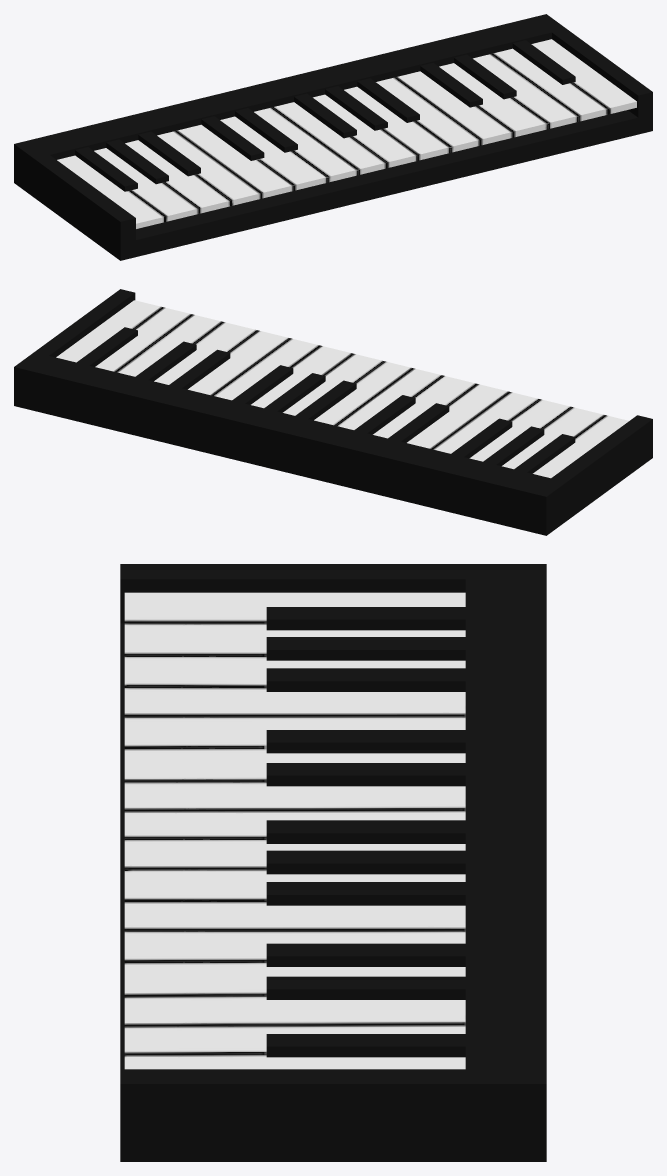
The model's file is Low_Poly_Digital_Piano.glb.
The picture shows the model from 3 angles, top to bottom: view 1: azimuth 30°, elevation 25°; view 2: azimuth 150°, elevation 25°; view 3: azimuth 270°, elevation 25°; orthographic projection. The views are drawn at different scales.
Visible parts, largest first — view 1: Plane_Mat.1_0, Plane_Mat_0, Cube_10_Mat.1_0, Cube_3_Mat.1_0, Cube_1_Mat.1_0, Cube_7_Mat.1_0, Cube_2_Mat.1_0, Cube_5_Mat.1_0, Cube_4_Mat.1_0, Cube_9_Mat.1_0, Cube_6_Mat.1_0, Cube_Mat.1_0 (+1 smaller); view 2: Plane_Mat.1_0, Plane_Mat_0, Cube_2_Mat.1_0, Cube_8_Mat.1_0, Cube_5_Mat.1_0, Cube_3_Mat.1_0, Cube_1_Mat.1_0, Cube_9_Mat.1_0, Cube_7_Mat.1_0, Cube_6_Mat.1_0, Cube_4_Mat.1_0, Cube_Mat.1_0 (+1 smaller); view 3: Plane_Mat_0, Plane_Mat.1_0, Cube_6_Mat.1_0, Cube_7_Mat.1_0, Cube_5_Mat.1_0, Cube_2_Mat.1_0, Cube_1_Mat.1_0, Cube_10_Mat.1_0, Cube_9_Mat.1_0, Cube_8_Mat.1_0, Cube_4_Mat.1_0, Cube_3_Mat.1_0 (+1 smaller).
Part boxes in pixels (x1=…): Plane_Mat.1_0: x1=14, y1=14, x2=652, y2=260; Plane_Mat_0: x1=57, y1=39, x2=636, y2=228; Cube_10_Mat.1_0: x1=512, y1=40, x2=575, y2=84; Cube_3_Mat.1_0: x1=201, y1=116, x2=264, y2=160; Cube_1_Mat.1_0: x1=106, y1=139, x2=168, y2=184; Cube_7_Mat.1_0: x1=357, y1=78, x2=419, y2=122; Cube_2_Mat.1_0: x1=138, y1=131, x2=200, y2=176; Cube_5_Mat.1_0: x1=294, y1=93, x2=356, y2=138; Cube_4_Mat.1_0: x1=235, y1=108, x2=297, y2=152; Cube_9_Mat.1_0: x1=454, y1=54, x2=516, y2=99; Cube_6_Mat.1_0: x1=325, y1=86, x2=387, y2=130; Cube_Mat.1_0: x1=75, y1=147, x2=137, y2=191; Plane_Mat.1_0: x1=14, y1=289, x2=652, y2=535; Plane_Mat_0: x1=56, y1=300, x2=628, y2=478; Cube_2_Mat.1_0: x1=451, y1=418, x2=512, y2=458; Cube_8_Mat.1_0: x1=169, y1=349, x2=230, y2=389; Cube_5_Mat.1_0: x1=295, y1=380, x2=356, y2=420; Cube_3_Mat.1_0: x1=388, y1=403, x2=449, y2=442; Cube_1_Mat.1_0: x1=483, y1=426, x2=544, y2=466; Cube_9_Mat.1_0: x1=135, y1=341, x2=196, y2=381; Cube_7_Mat.1_0: x1=232, y1=365, x2=293, y2=404; Cube_6_Mat.1_0: x1=264, y1=373, x2=325, y2=412; Cube_4_Mat.1_0: x1=354, y1=395, x2=415, y2=434; Cube_Mat.1_0: x1=514, y1=434, x2=575, y2=473; Plane_Mat_0: x1=124, y1=592, x2=465, y2=1069; Plane_Mat.1_0: x1=120, y1=564, x2=546, y2=1161; Cube_6_Mat.1_0: x1=266, y1=850, x2=465, y2=874; Cube_7_Mat.1_0: x1=266, y1=882, x2=465, y2=905; Cube_5_Mat.1_0: x1=266, y1=820, x2=465, y2=843; Cube_2_Mat.1_0: x1=266, y1=668, x2=465, y2=691; Cube_1_Mat.1_0: x1=266, y1=637, x2=465, y2=660; Cube_10_Mat.1_0: x1=266, y1=1034, x2=465, y2=1057; Cube_9_Mat.1_0: x1=266, y1=976, x2=465, y2=999; Cube_8_Mat.1_0: x1=266, y1=943, x2=465, y2=966; Cube_4_Mat.1_0: x1=266, y1=763, x2=465, y2=786; Cube_3_Mat.1_0: x1=266, y1=730, x2=465, y2=753.
Size of the model in its own units: 8.48 by 0.5933 by 2.94.
2 materials, 1 textured.
